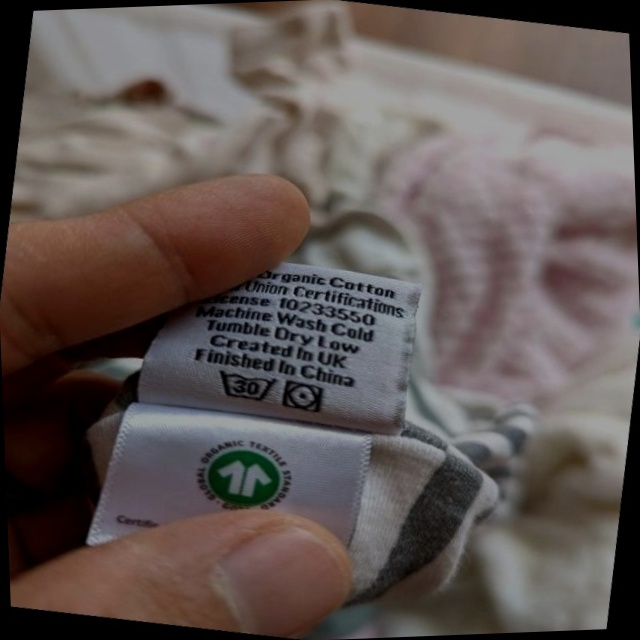30C: (210, 363, 281, 409)
tumble_dry_low: (278, 376, 328, 419)
